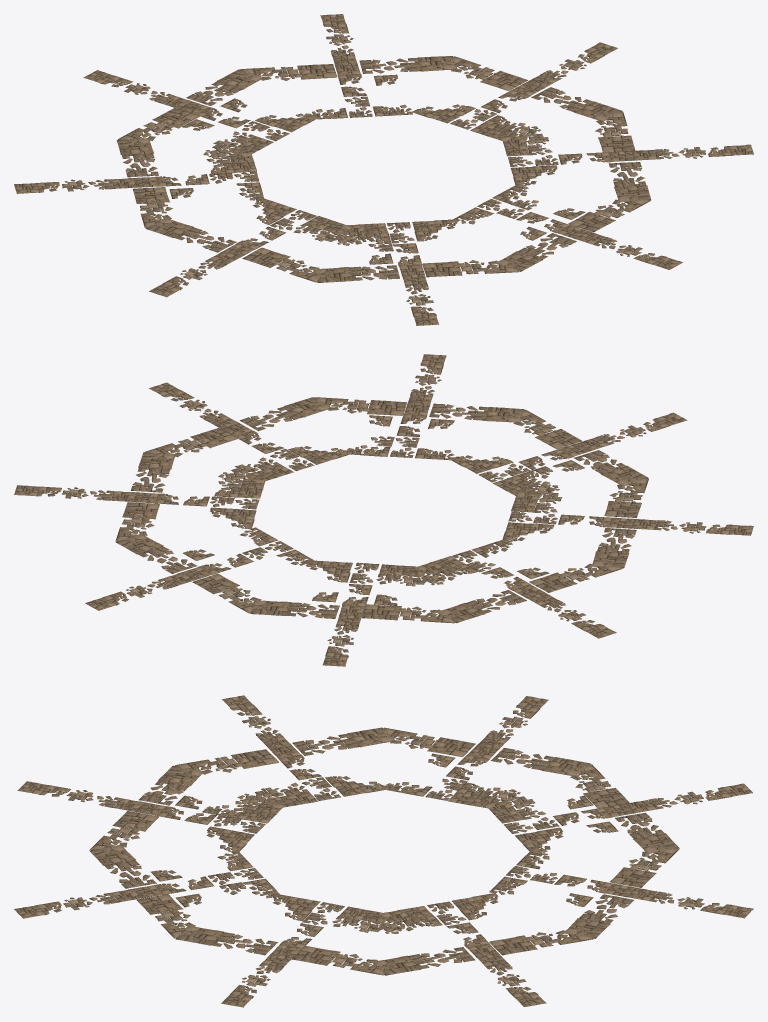
Rendered from colo3floor.FBX.
The picture shows the model from 3 angles, top to bottom: view 1: azimuth 30°, elevation 25°; view 2: azimuth 150°, elevation 25°; view 3: azimuth 270°, elevation 25°; orthographic projection. The views are drawn at different scales.
Parts seen in each view (by area): view 1: colo3_floor; view 2: colo3_floor; view 3: colo3_floor.
Part boxes in pixels (x1,y1,x2,y2): colo3_floor: [14, 14, 753, 325]; colo3_floor: [14, 354, 753, 666]; colo3_floor: [14, 695, 753, 1007].
Bounding box in the file's own units: 13809 × 36.07 × 13837.
